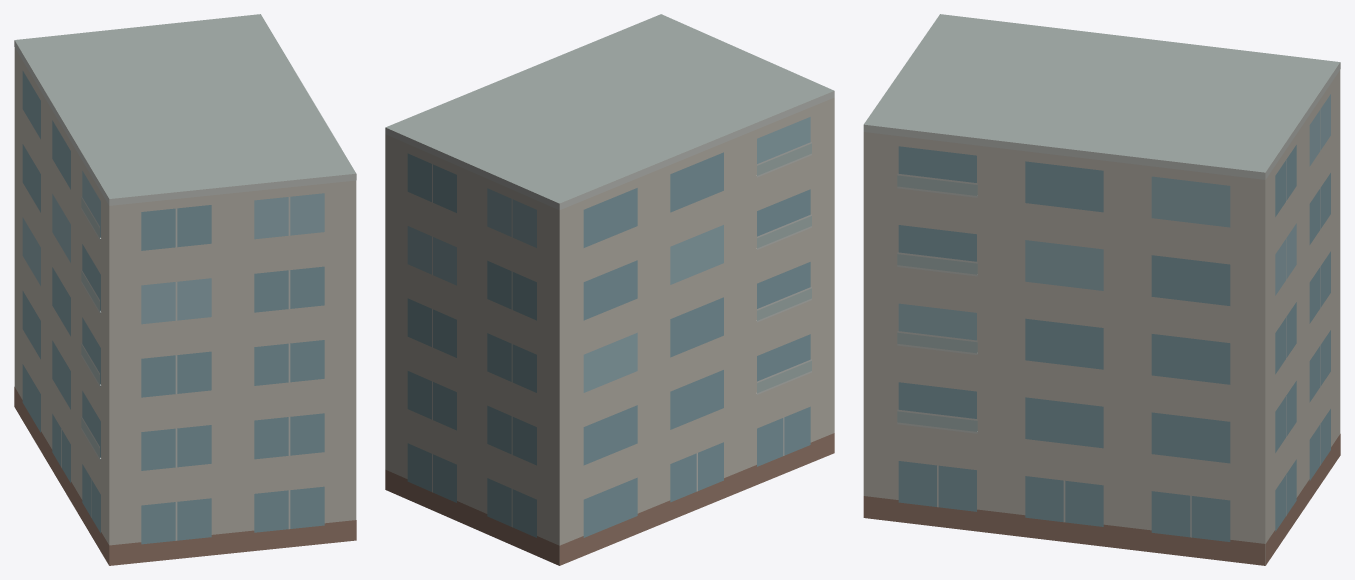
The model's file is survey-upis-32872678.glb.
3 views of the same model, side by side, from view 1: azimuth 30°, elevation 25°; view 2: azimuth 150°, elevation 25°; view 3: azimuth 270°, elevation 25° (orthographic). The views are drawn at different scales.
Visible parts, largest first — view 1: survey-upis-32872678.tmp; view 2: survey-upis-32872678.tmp; view 3: survey-upis-32872678.tmp.
Boxes of the visible parts, <box> form: survey-upis-32872678.tmp: <box>14,14,356,565</box>; survey-upis-32872678.tmp: <box>385,14,834,565</box>; survey-upis-32872678.tmp: <box>863,14,1340,565</box>.
Size of the model in its own units: 11.43 by 13.2 by 14.52.
